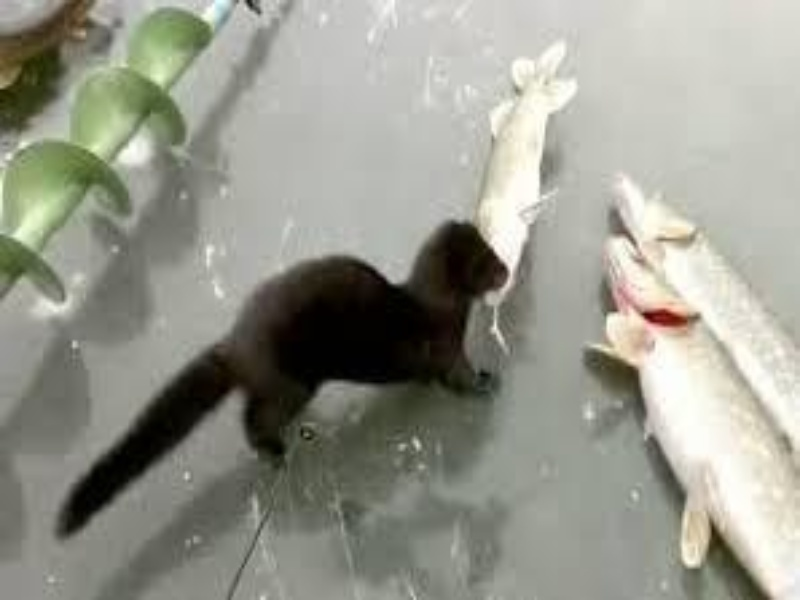minkish: (51, 214, 512, 549)
